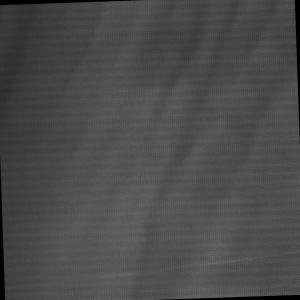Wrinkle: (47, 1, 300, 300)
